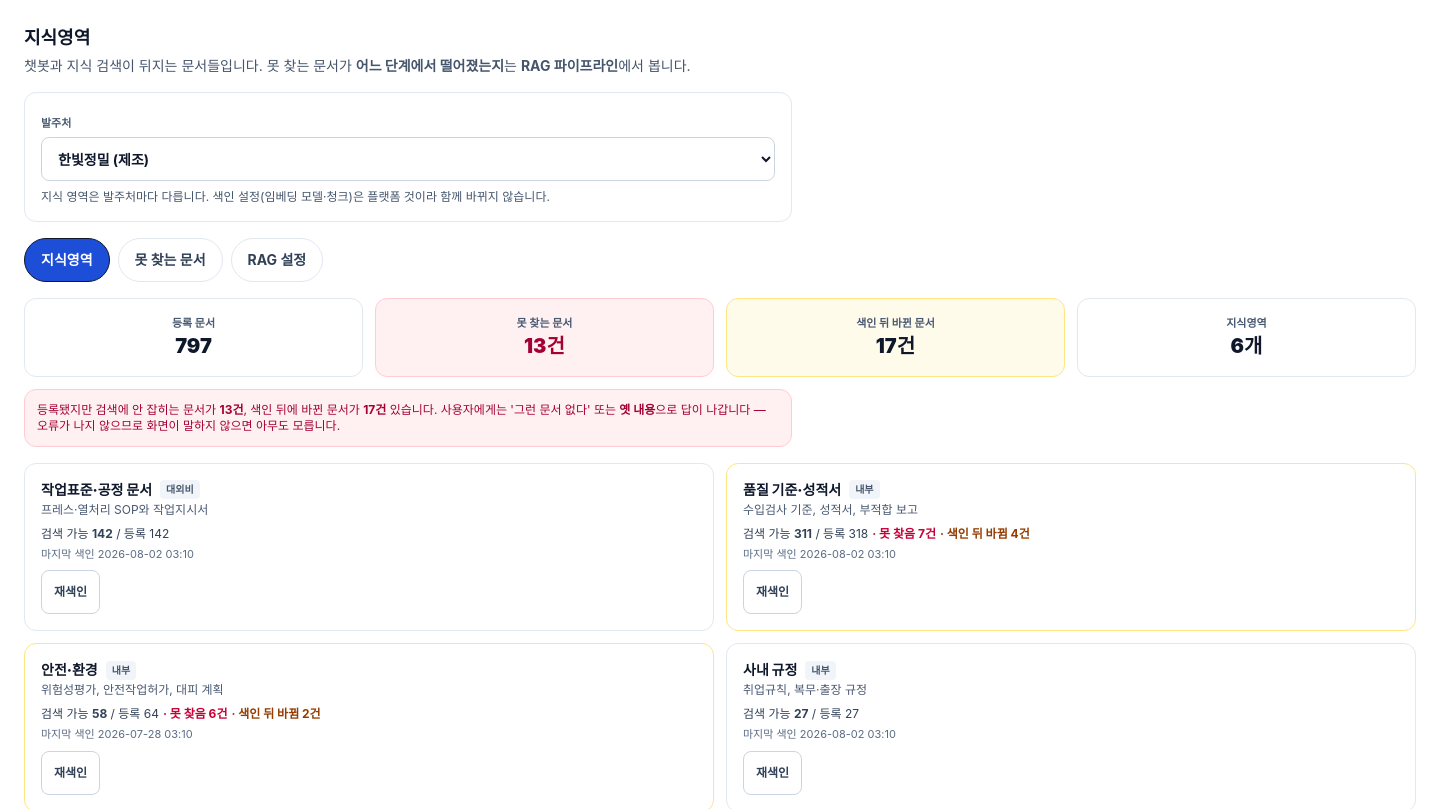
Test: 못 찾는 문서 › 영역을 고르면 목록이 실제로 좁혀진다
The image size is (1440, 809).
Click the tab "못 찾는 문서" at [170, 260], box [118,238,222,282]
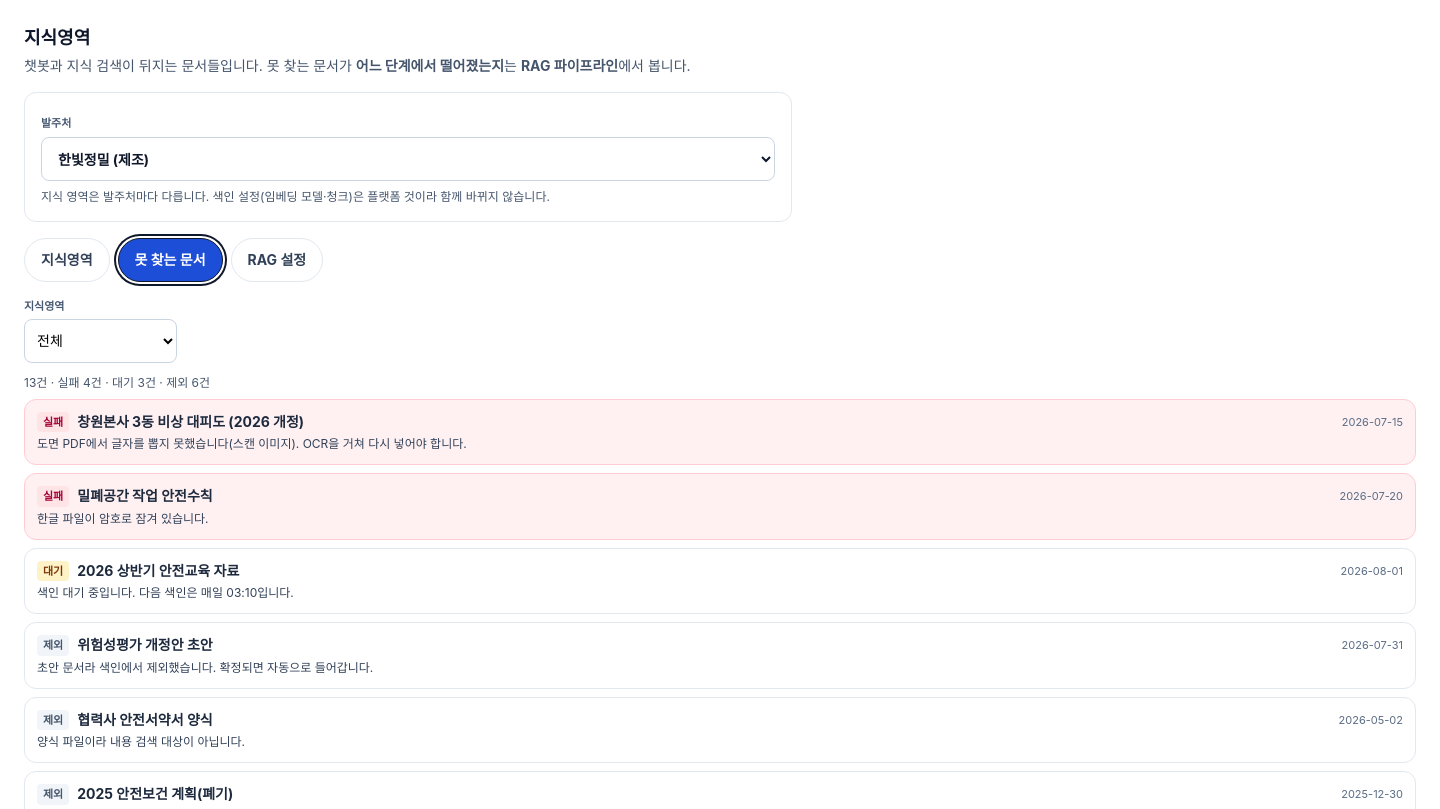
Result: the text "13건 · 실패 4건 · 대기 3건 · 제외 6건" is shown at [24,374,210,390]
Select "안전·환경" in the dropdown labelled "지식영역" at [100, 340], box [24,318,177,362]
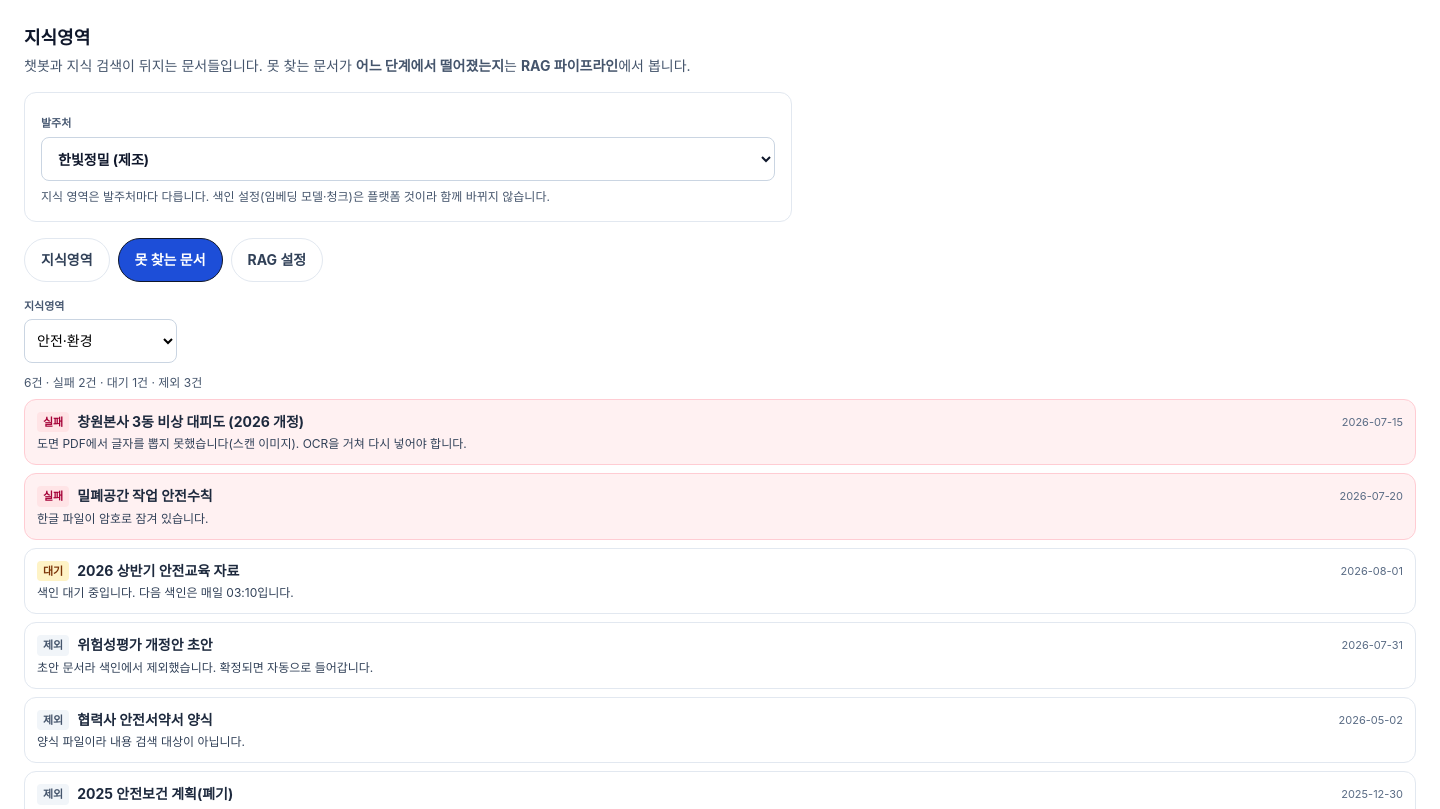
Result: the text "6건 · 실패 2건 · 대기 1건 · 제외 3건" is shown at [24,374,202,390]
